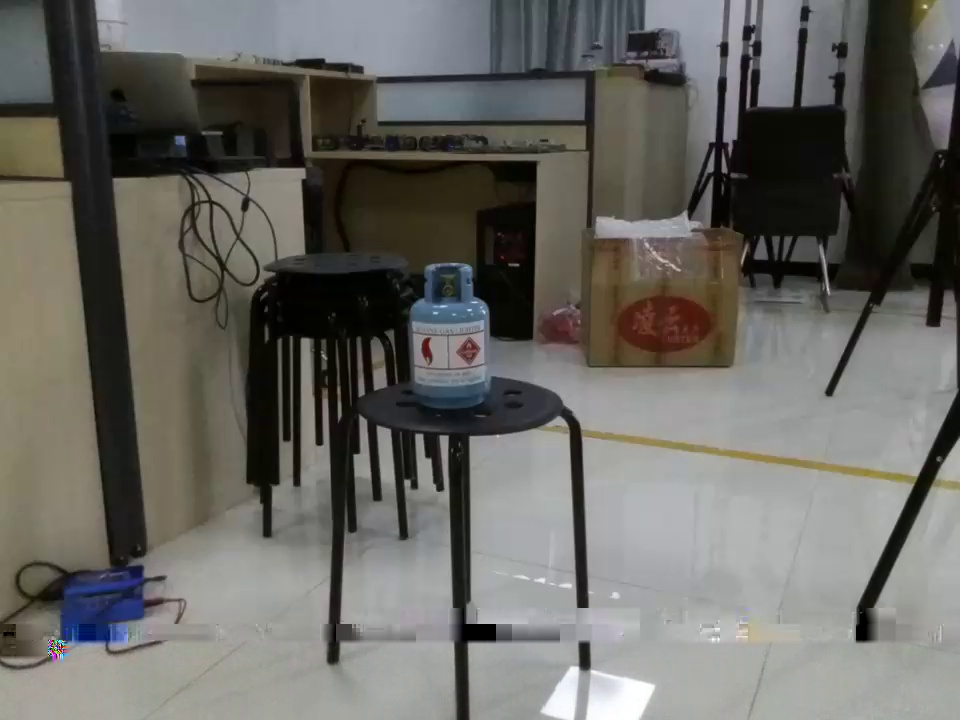gas tank: (403, 258, 507, 418)
